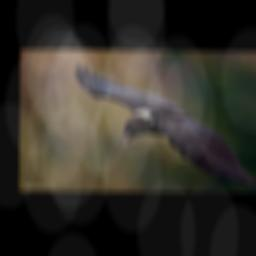Crow: (72, 62, 256, 189)
